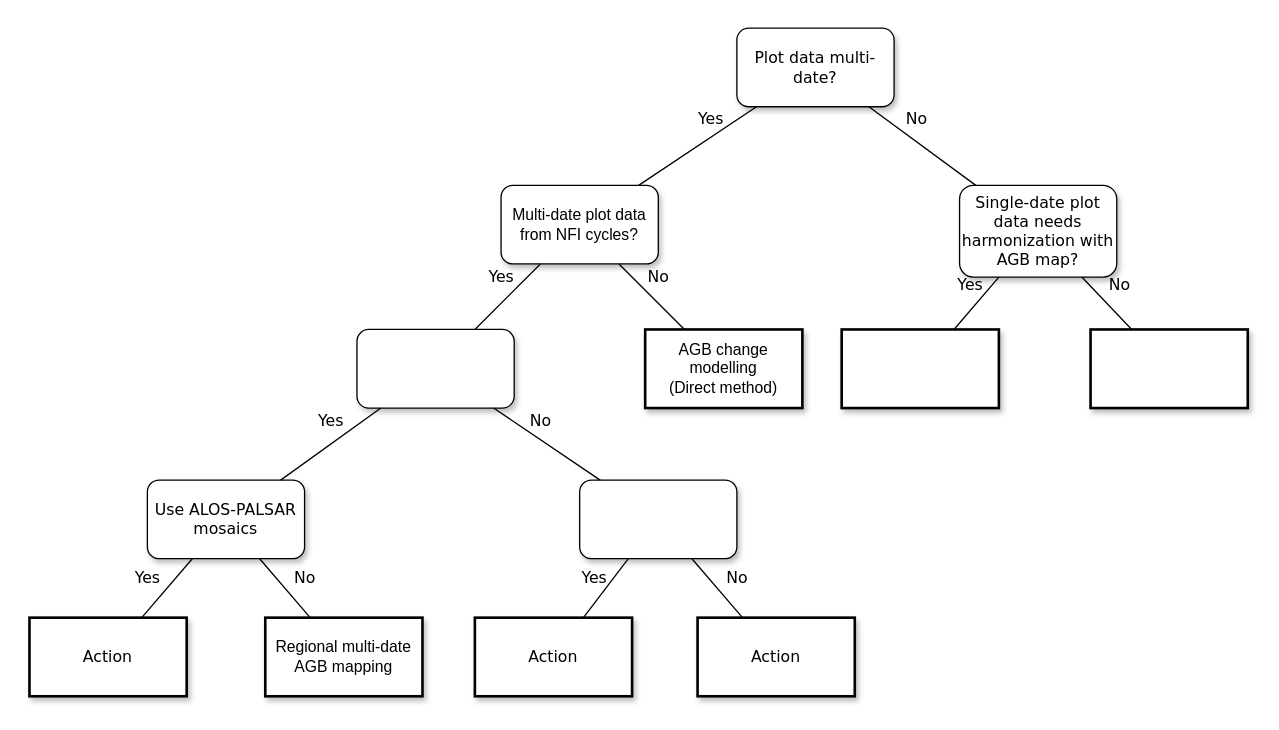
Some shapes in this 1279 by 730 pixel diagram are drawn without their labels. Each missing label, with the centre of its shape:
"Condition" goes at (x=659, y=521).
"Do nothing" goes at (x=1169, y=370).
"Forest area scaling Temporal adjustment Weighted AGB" goes at (x=920, y=370).
"With inventory beyond 2007" goes at (x=436, y=370).
